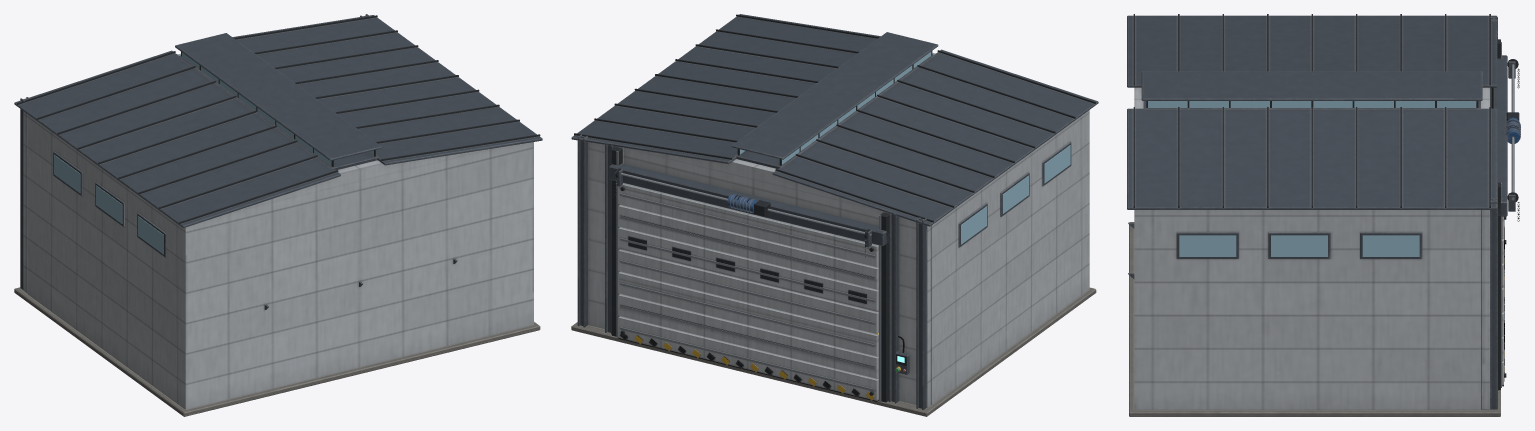
The model's file is hangar_principal.fbx.
The picture shows the model from 3 angles, left to right: view 1: azimuth 30°, elevation 25°; view 2: azimuth 150°, elevation 25°; view 3: azimuth 270°, elevation 25°; orthographic projection. The views are drawn at different scales.
Visible parts, largest first — view 1: hangar_principal, hangar_principal_cristal; view 2: hangar_principal, hangar_principal_puerta, hangar_principal_cristal; view 3: hangar_principal, hangar_principal_cristal, hangar_principal_puerta.
Boxes of the visible parts, box(x1,y1,x2,y2) form: hangar_principal: box(14, 14, 542, 416); hangar_principal_cristal: box(54, 52, 373, 254); hangar_principal: box(571, 14, 1098, 416); hangar_principal_puerta: box(618, 183, 878, 401); hangar_principal_cristal: box(740, 51, 1070, 244); hangar_principal: box(1127, 14, 1520, 416); hangar_principal_cristal: box(1148, 101, 1476, 256); hangar_principal_puerta: box(1502, 216, 1506, 386).
Bounding box in the file's own units: 24.83 × 14.27 × 21.48.
4 materials, 1 textured.
